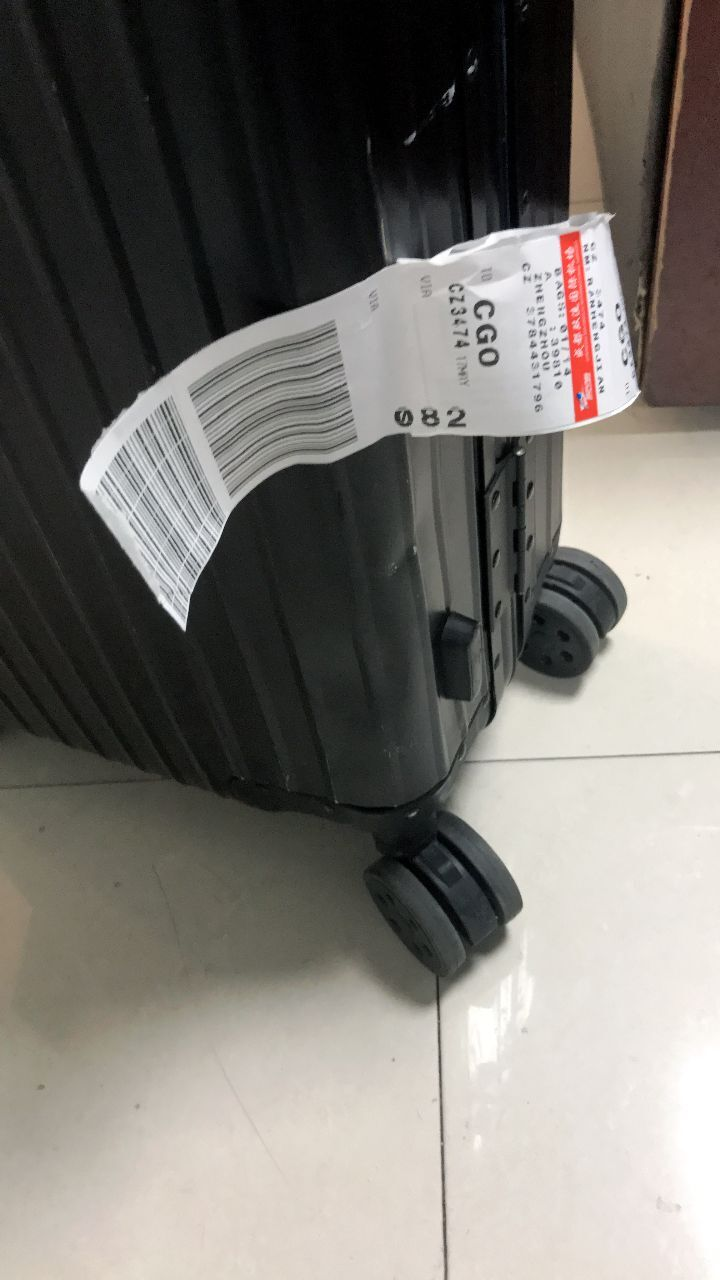rupture: (309, 630, 411, 736), (388, 503, 430, 582)
